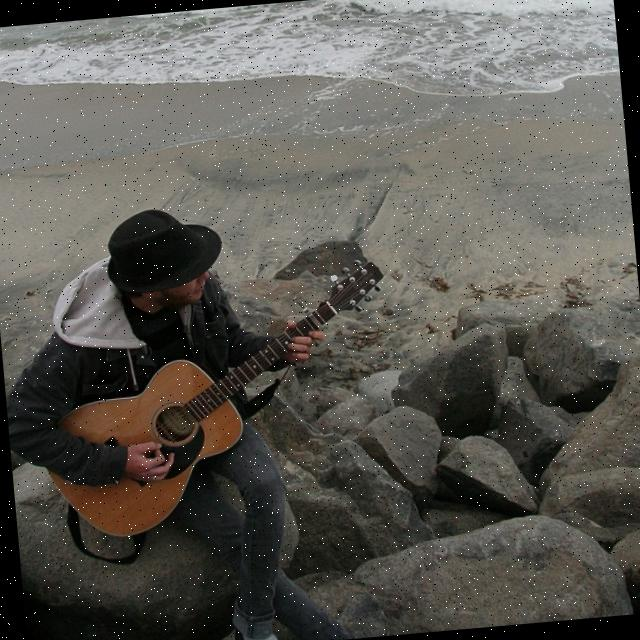guitar: (32, 261, 403, 550)
